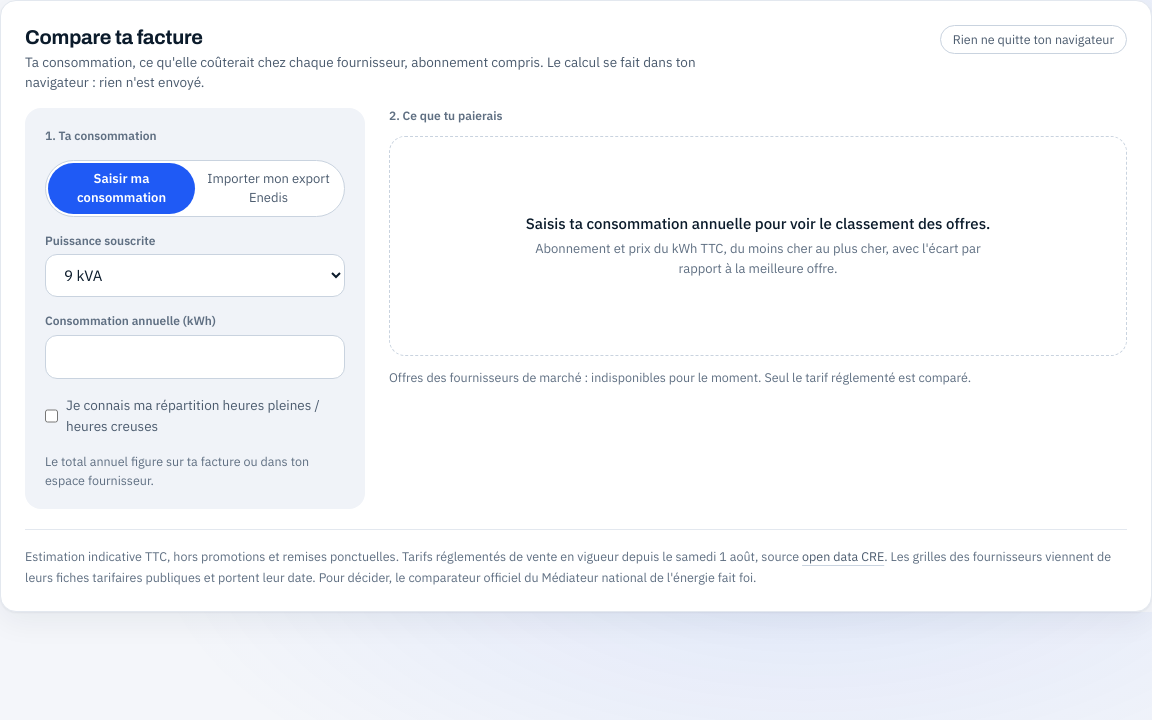
it: CompareSection › la puissance affichée est toujours celle calculée, même sans 6 kVA dans les grilles
expect the dropdown labelled "Puissance souscrite" shows "9 kVA": met, box x1=45 y1=254 x2=345 y2=297
Type "4500" into the number field labelled "Consommation annuelle (kWh)" at [195, 357], box x1=45 y1=335 x2=345 y2=379
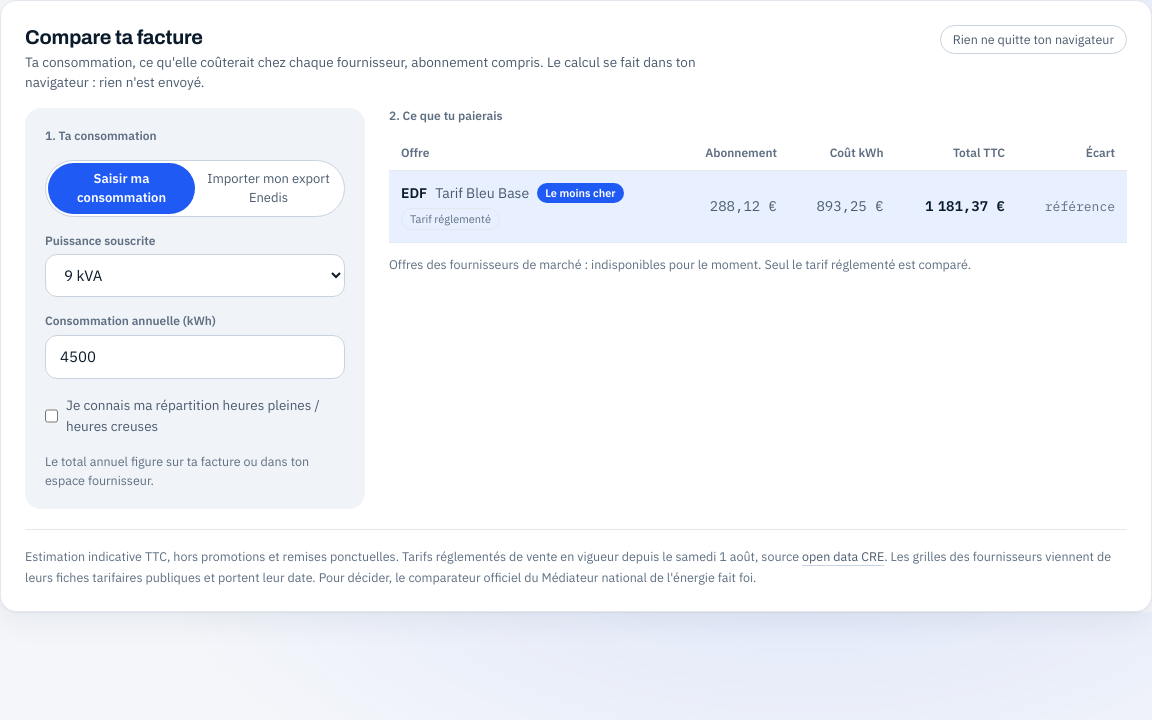
expect the row "Tarif Bleu Base" shows "288,12": met, box x1=710 y1=197 x2=777 y2=215
